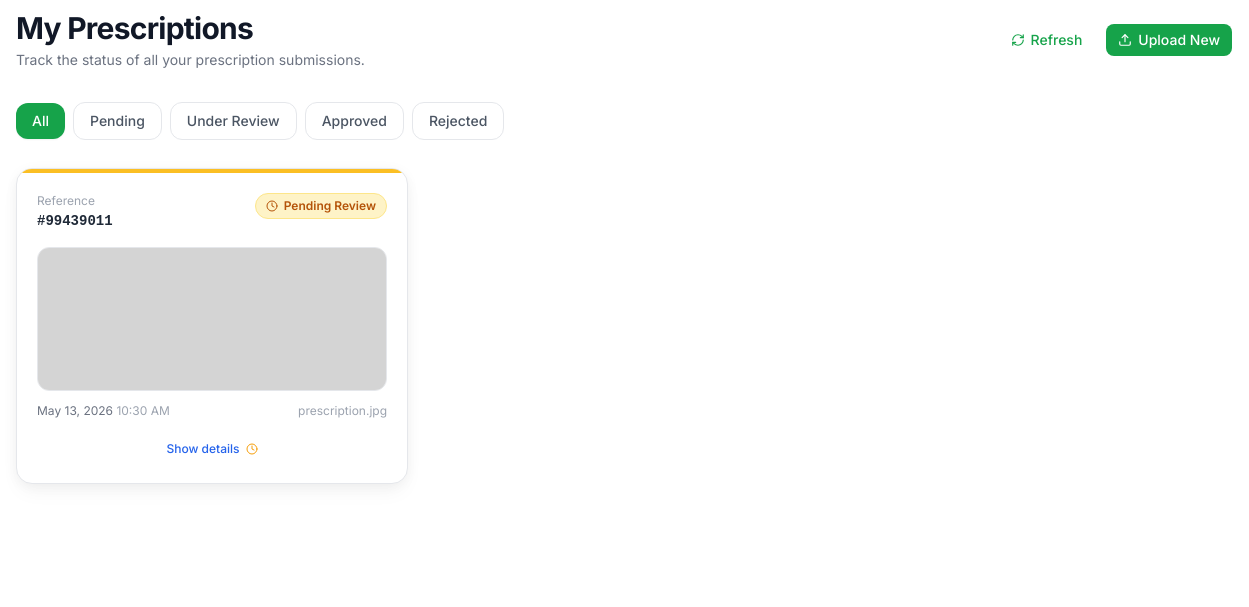
Test case: Expand / collapse details › hides details after clicking "Hide details"
This screenshot has width=1249, height=607.
Click the button with test id "expand-button" at coordinates (212, 449), box [37,435,387,463]
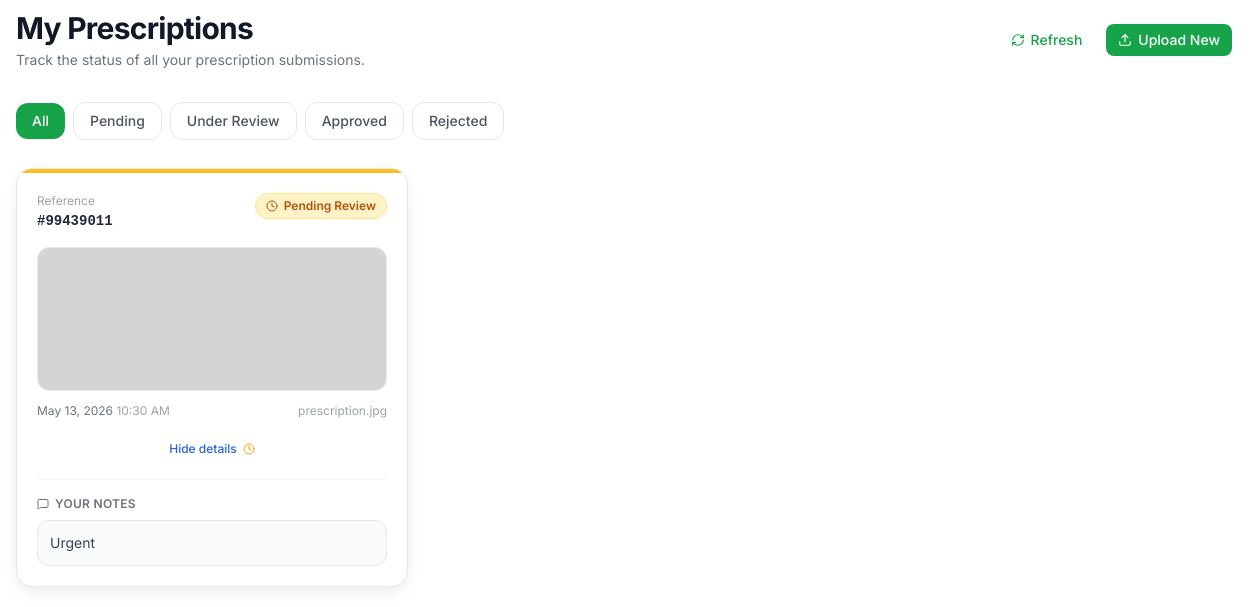
Check: the element with test id "pharmacist-notes" is shown, box [37,479,387,566]
Click the button with test id "expand-button" at coordinates (212, 449), box [37,435,387,463]
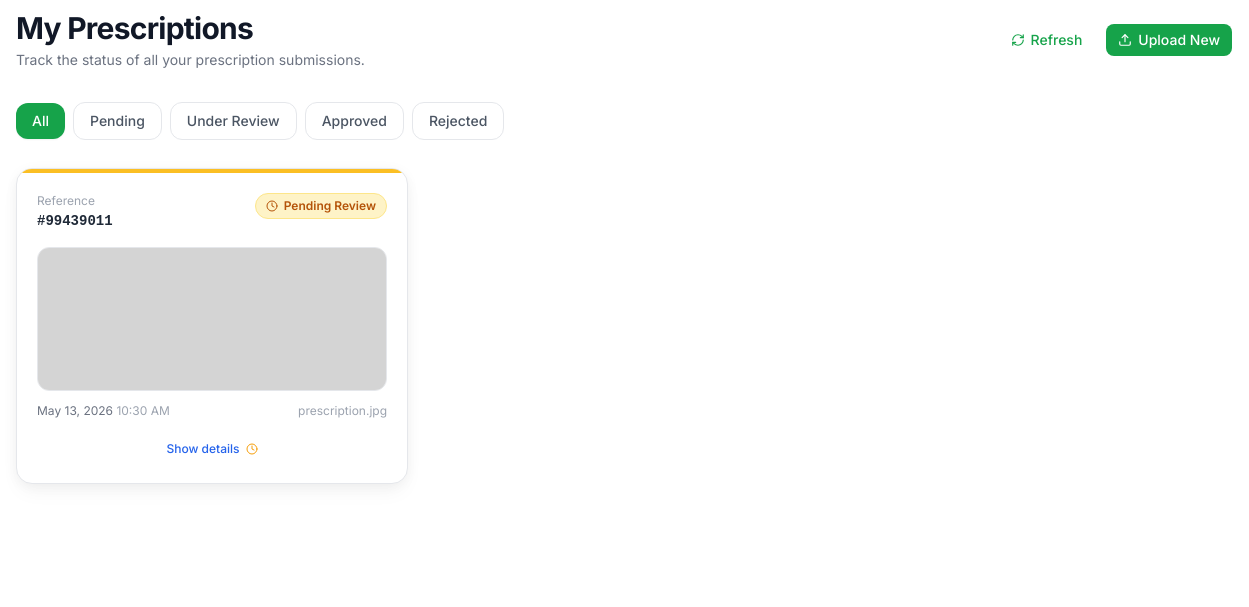
Check: the element with test id "pharmacist-notes" is gone
